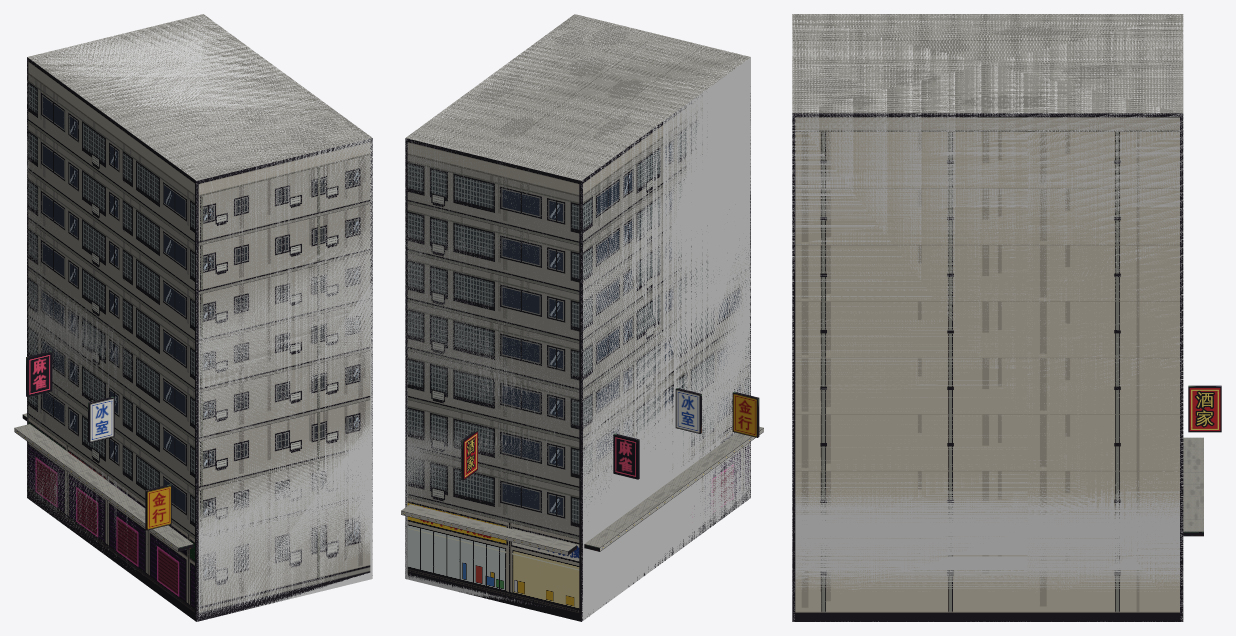
The picture shows the model from 3 angles, left to right: view 1: azimuth 30°, elevation 25°; view 2: azimuth 150°, elevation 25°; view 3: azimuth 270°, elevation 25°; orthographic projection. The views are drawn at different scales.
Parts seen in each view (by area): view 1: 19D-E01, COL_19D-E01_0; view 2: 19D-E01, COL_19D-E01_0; view 3: 19D-E01, COL_19D-E01_0.
Boxes of the visible parts, left/top/right/bottom form: 19D-E01: left=14, top=14, right=372, bottom=621; COL_19D-E01_0: left=27, top=14, right=372, bottom=620; 19D-E01: left=401, top=14, right=763, bottom=621; COL_19D-E01_0: left=405, top=14, right=750, bottom=621; 19D-E01: left=792, top=14, right=1221, bottom=621; COL_19D-E01_0: left=792, top=14, right=1183, bottom=621.
Bounding box in the file's own units: 13.15 × 27 × 20.65.
Materials: 1 (1 with a texture image).
